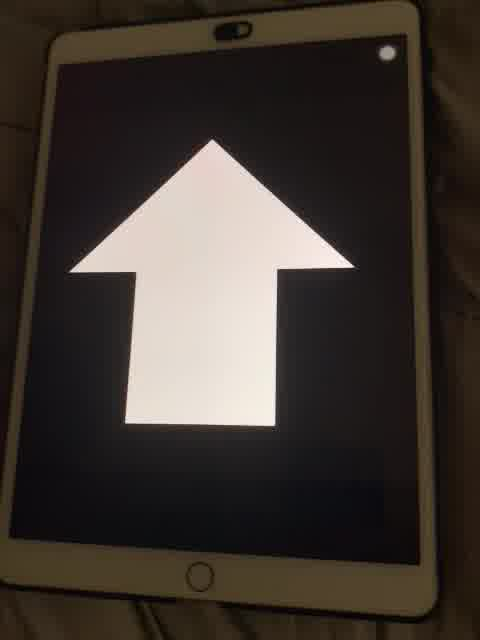up: (65, 135, 363, 426)
